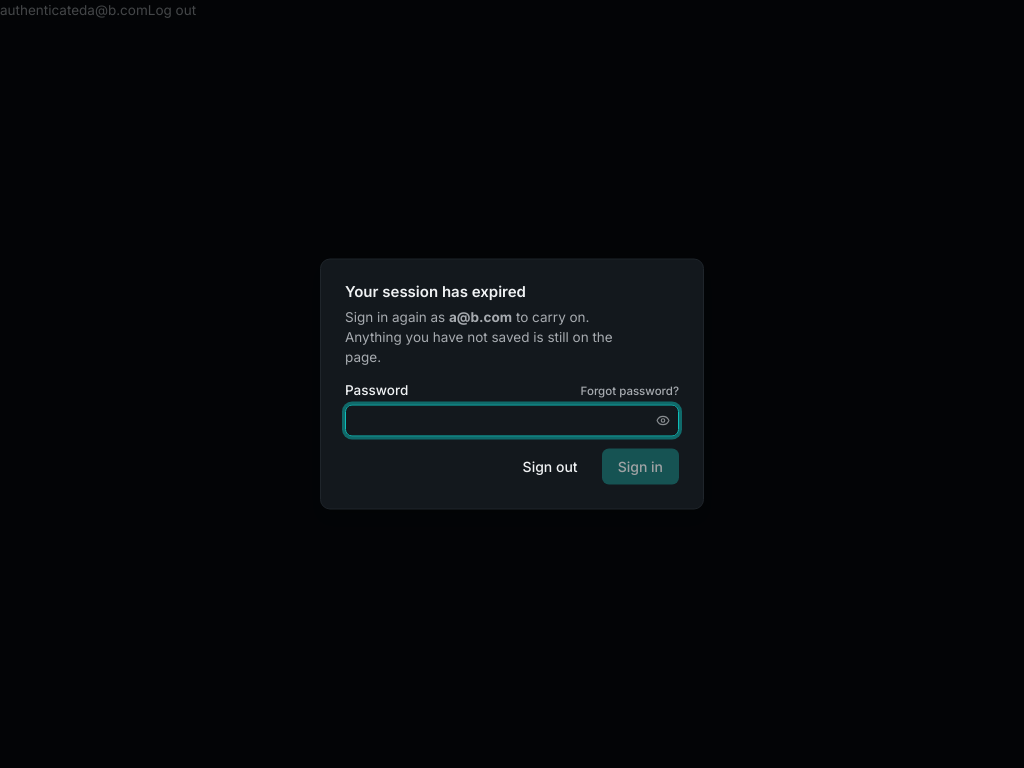
Test: AuthProvider unauthorized event cycle › keeps the page mounted under a sign-in dialog when the session expires
Expected: the text with test id "status" reads "authenticated", [0,2,87,18]
Expected: the text with test id "email" reads "a@b.com", [87,2,148,18]
In the password field labelled "Password": point(512, 420) [345,404,679,436], type "secret"
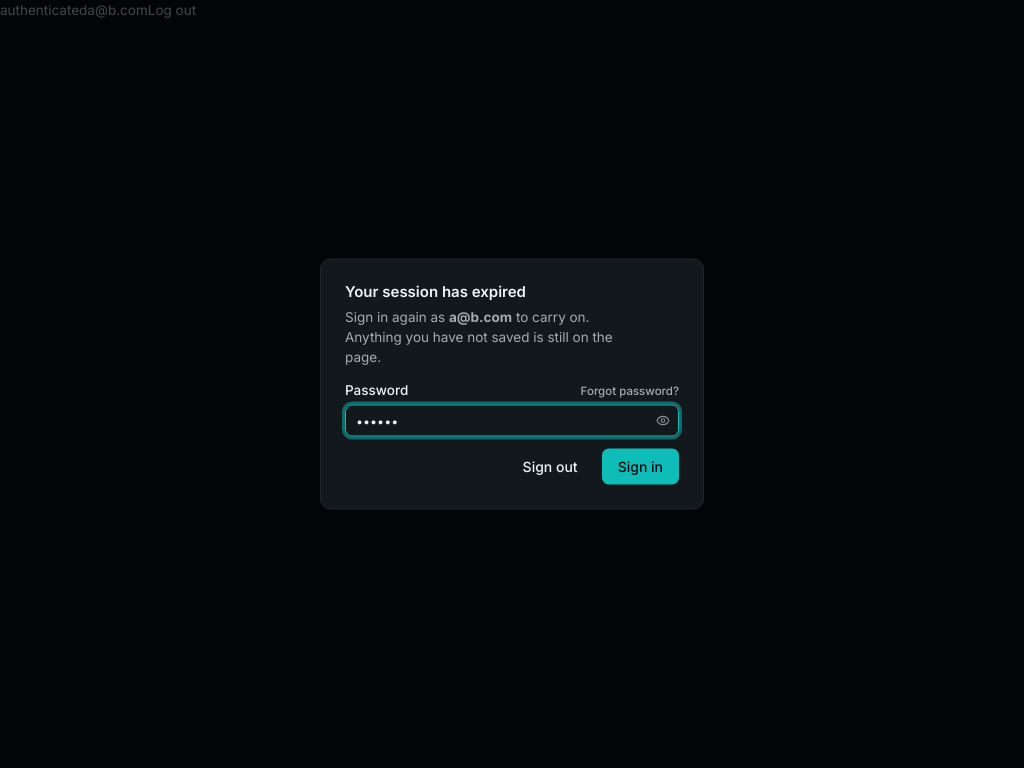
Click the button "Sign in": point(640, 466) [602,448,679,484]
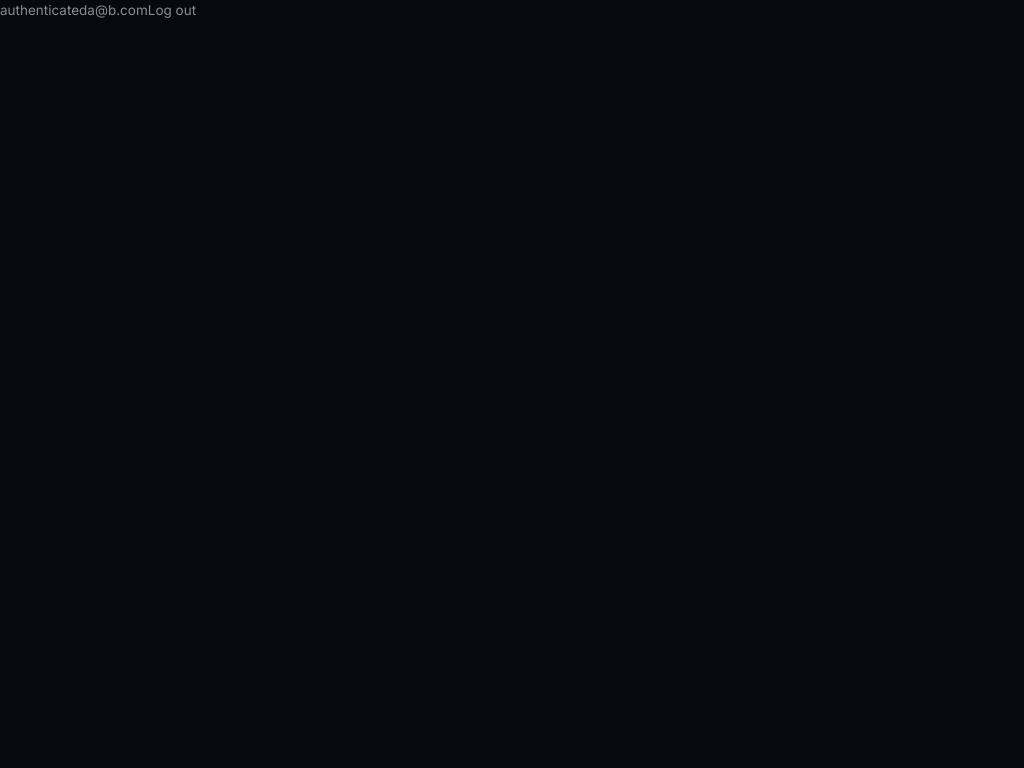
Expected: the text with test id "status" reads "authenticated", [0,2,87,18]
Expected: the heading "Your session has expired" is gone
